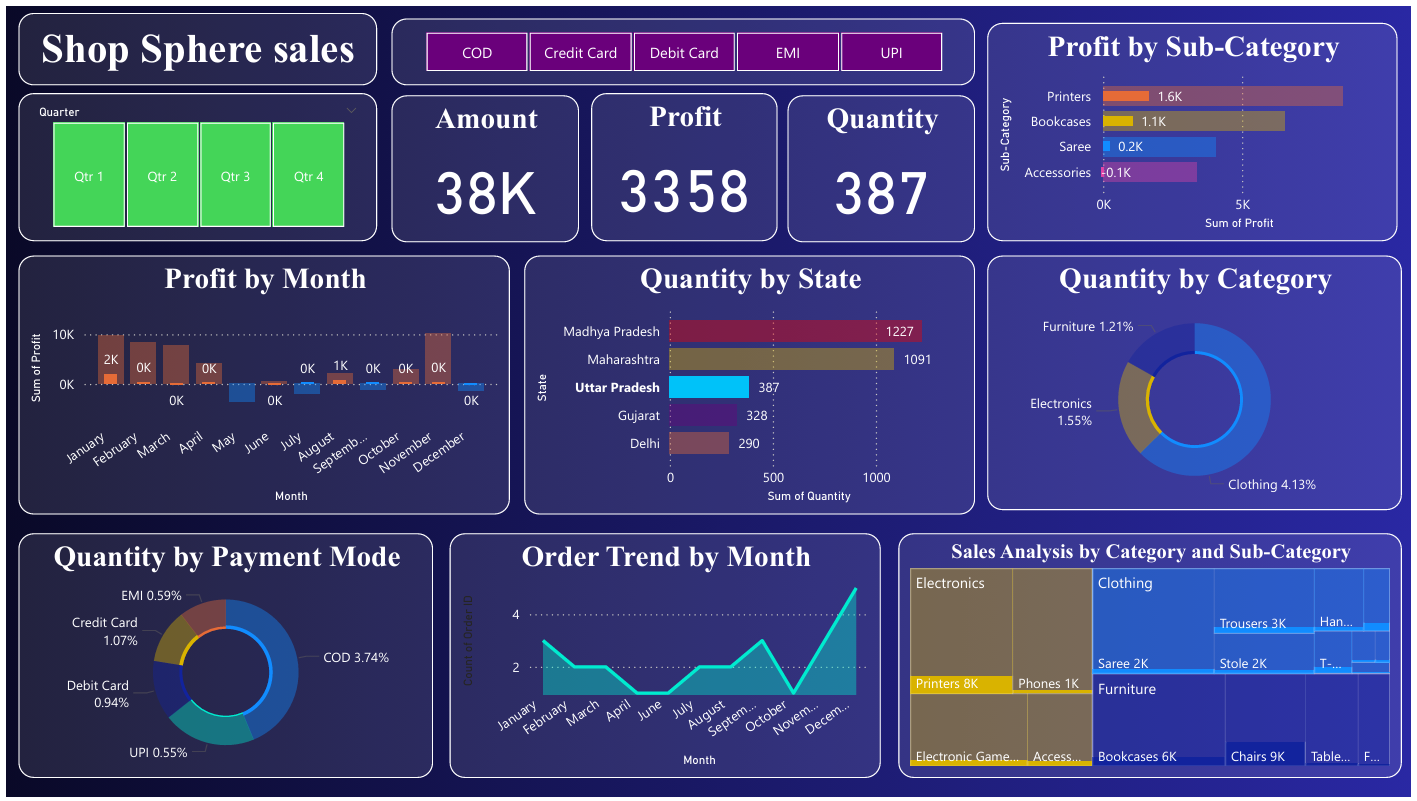

The dashboard page shown, as its layout file describes it:
{"tool":"powerbi","page":{"name":"Page 1","canvas":[1280,720],"ordinal":0},"visuals":[{"type":"columnChart","title":"Profit by Month","fields":{"Y":["Sum(Details.Profit)"],"Category":["Orders.Order Date.Variation.Date Hierarchy.Month"]},"box":[11.3,226.8,447.9,236.2],"z":0},{"type":"barChart","title":"Quantity by State","fields":{"Category":["Orders.State"],"Y":["Sum(Details.Quantity)"]},"box":[472.4,226.8,410.1,236.2],"z":1000},{"type":"donutChart","title":"Quantity by Category","fields":{"Category":["Details.Category"],"Y":["Sum(Details.Quantity)"]},"box":[893.9,226.8,378,232.4],"z":2000},{"type":"donutChart","title":"Quantity by Payment Mode","fields":{"Y":["Sum(Details.Quantity)"],"Category":["Details.PaymentMode"]},"box":[11.3,480,378,223],"z":3000},{"type":"card","title":"Quantity","fields":{"Values":["Sum(Details.Quantity)"]},"box":[712.4,81.3,170.1,134.2],"z":4000},{"type":"card","title":"Amount","fields":{"Values":["Sum(Details.Amount)"]},"box":[351.5,81.3,170.1,134.2],"z":5000},{"type":"card","title":"Profit","fields":{"Values":["Sum(Details.Profit)"]},"box":[532.9,79.4,170.1,134.2],"z":6000},{"type":"treemap","title":"Sales Analysis by Category and Sub-Category","fields":{"Group":["Details.Category"],"Details":["Details.Sub-Category"],"Values":["Sum(Details.Amount)"]},"box":[812.6,480,459.2,223],"z":7000},{"type":"areaChart","title":"Order Trend by Month","fields":{"Category":["Orders.Order Date.Variation.Date Hierarchy.Month"],"Y":["CountNonNull(Orders.Order ID)"]},"box":[404.4,480,393.1,223],"z":8000},{"type":"barChart","title":"Profit by Sub-Category","fields":{"Category":["Details.Sub-Category"],"Y":["Sum(Details.Profit)"]},"box":[893.9,15.1,374.2,198.4],"z":9000},{"type":"slicer","fields":{"Values":["Details.PaymentMode"]},"box":[351.5,11.3,531,60.5],"z":10000},{"type":"slicer","fields":{"Values":["Orders.Order Date.Variation.Date Hierarchy.Quarter"]},"box":[11.3,79.4,326.9,134.2],"z":11000},{"type":"textbox","box":[11.3,5.7,326.9,66.1],"z":12000}]}

Visuals, with their boxes in screenshot pixels (x1, y1, x2, y2), scaled from the page's 1280x720 canvas onto the 1417x801 screenshot:
"Profit by Month" columnChart: {"x1": 13, "y1": 252, "x2": 508, "y2": 515}
"Quantity by State" barChart: {"x1": 523, "y1": 252, "x2": 977, "y2": 515}
"Quantity by Category" donutChart: {"x1": 990, "y1": 252, "x2": 1408, "y2": 511}
"Quantity by Payment Mode" donutChart: {"x1": 13, "y1": 534, "x2": 431, "y2": 782}
"Quantity" card: {"x1": 789, "y1": 90, "x2": 977, "y2": 240}
"Amount" card: {"x1": 389, "y1": 90, "x2": 577, "y2": 240}
"Profit" card: {"x1": 590, "y1": 88, "x2": 778, "y2": 238}
"Sales Analysis by Category and Sub-Category" treemap: {"x1": 900, "y1": 534, "x2": 1408, "y2": 782}
"Order Trend by Month" areaChart: {"x1": 448, "y1": 534, "x2": 883, "y2": 782}
"Profit by Sub-Category" barChart: {"x1": 990, "y1": 17, "x2": 1404, "y2": 238}
slicer - Details.PaymentMode: {"x1": 389, "y1": 13, "x2": 977, "y2": 80}
slicer - Orders.Order Date.Variation.Date Hierarchy.Quarter: {"x1": 13, "y1": 88, "x2": 374, "y2": 238}
textbox: {"x1": 13, "y1": 6, "x2": 374, "y2": 80}
